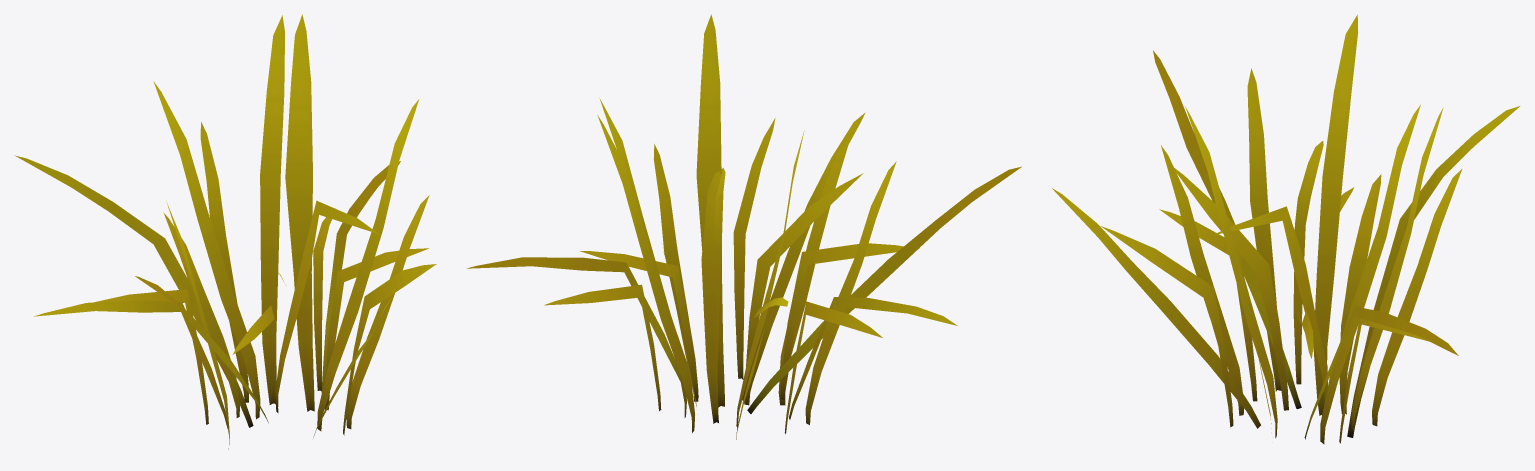
File: Grass_Wispy.glb
3 views of the same model, side by side, from view 1: azimuth 30°, elevation 25°; view 2: azimuth 150°, elevation 25°; view 3: azimuth 270°, elevation 25° (orthographic). The views are drawn at different scales.
Parts seen in each view (by area): view 1: Grass_Wispy_Short; view 2: Grass_Wispy_Short; view 3: Grass_Wispy_Short.
Boxes of the visible parts, bbox=[...] form: Grass_Wispy_Short: bbox=[15, 14, 436, 449]; Grass_Wispy_Short: bbox=[466, 14, 1021, 439]; Grass_Wispy_Short: bbox=[1052, 14, 1519, 444].
Bounding box in the file's own units: 1.32 × 1.07 × 1.21.
Materials: 1 (1 with a texture image).
